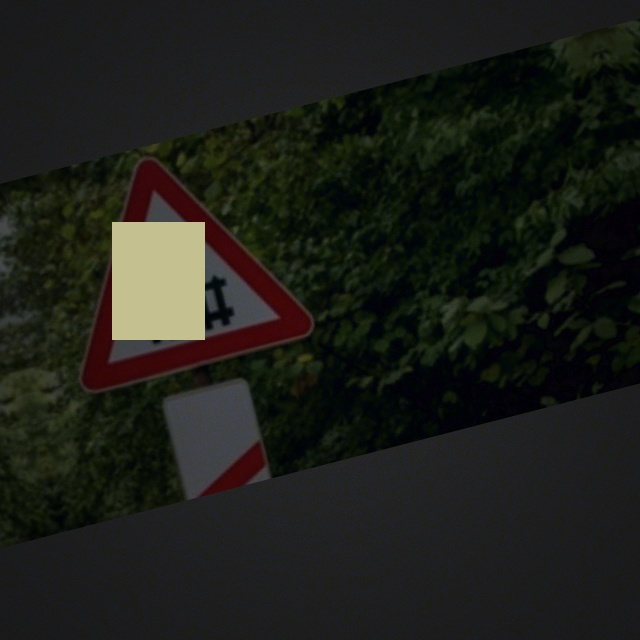Guarded_Level_Crossing: (36, 137, 310, 391)
